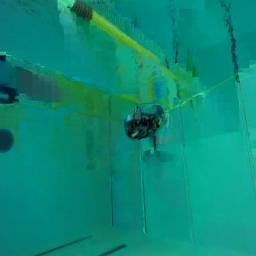Full: (124, 104, 167, 139)
